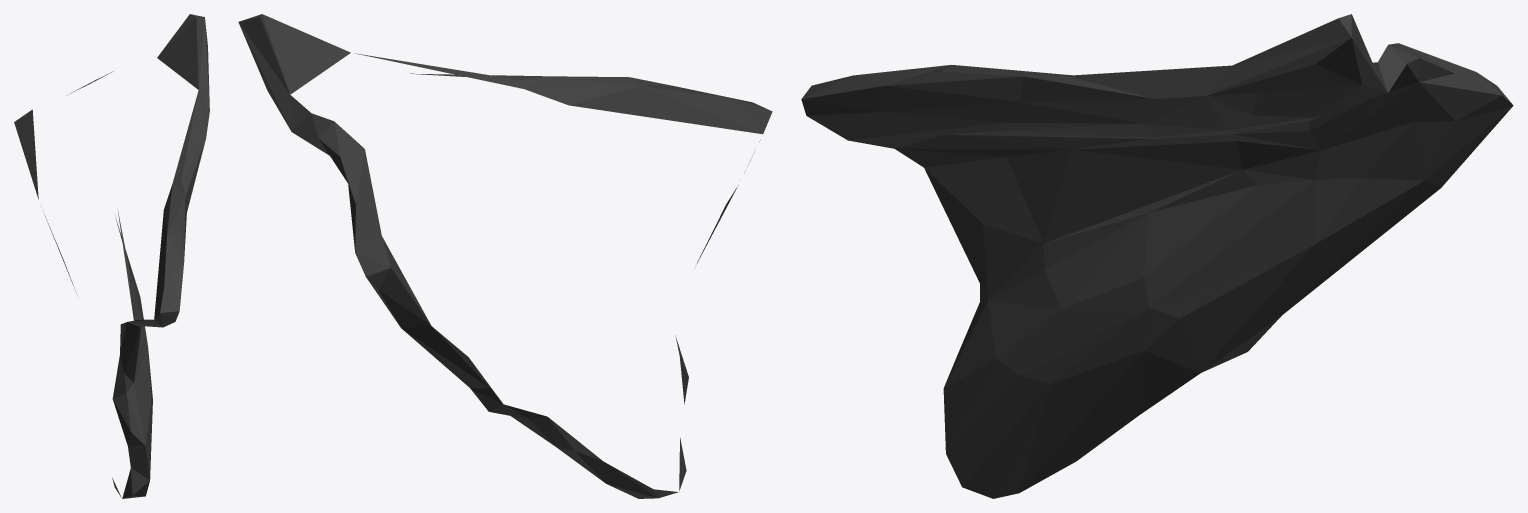
Rendered from oesophageal_groove.glb.
3 views of the same model, side by side, from view 1: azimuth 30°, elevation 25°; view 2: azimuth 150°, elevation 25°; view 3: azimuth 270°, elevation 25° (orthographic). The views are drawn at different scales.
Parts seen in each view (by area): view 1: oesophageal_groove; view 2: oesophageal_groove; view 3: oesophageal_groove.
Part boxes in pixels (bbox=[...]): oesophageal_groove: bbox=[14, 14, 209, 498]; oesophageal_groove: bbox=[238, 14, 772, 498]; oesophageal_groove: bbox=[801, 14, 1513, 498].
Bounding box in the file's own units: 0.2282 × 0.3799 × 0.3976.
1 material, 1 textured.
